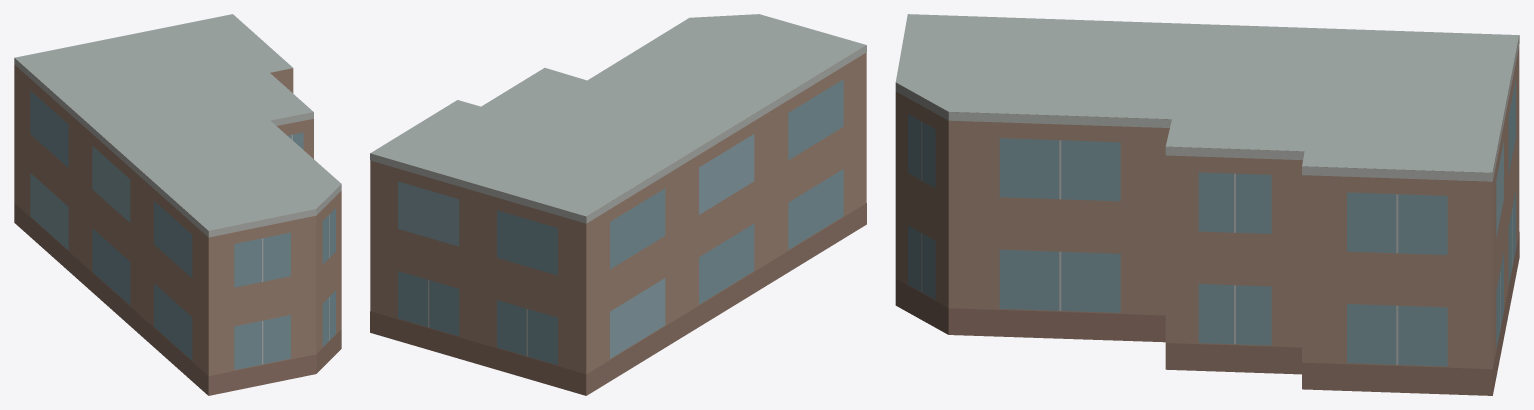
File: survey-upis-32713946.glb
The picture shows the model from 3 angles, left to right: view 1: azimuth 30°, elevation 25°; view 2: azimuth 150°, elevation 25°; view 3: azimuth 270°, elevation 25°; orthographic projection. The views are drawn at different scales.
Visible parts, largest first — view 1: survey-upis-32713946.tmp; view 2: survey-upis-32713946.tmp; view 3: survey-upis-32713946.tmp.
Boxes of the visible parts, x1=… form: survey-upis-32713946.tmp: x1=14, y1=14, x2=341, y2=395; survey-upis-32713946.tmp: x1=370, y1=14, x2=866, y2=395; survey-upis-32713946.tmp: x1=895, y1=14, x2=1519, y2=395.
Size of the model in its own units: 9.32 by 6.1 by 15.47.
